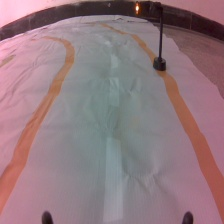yellow: (133, 1, 168, 73)
